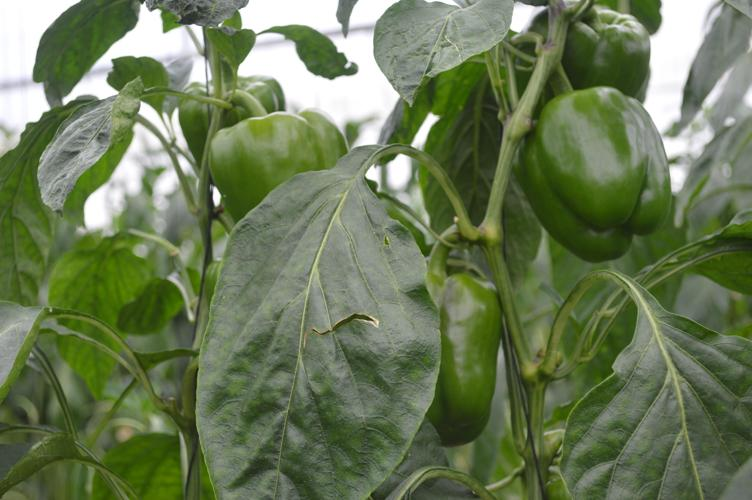BellPepper: (513, 85, 676, 263), (415, 276, 501, 438), (210, 113, 350, 210), (540, 8, 647, 96), (179, 76, 281, 149)
